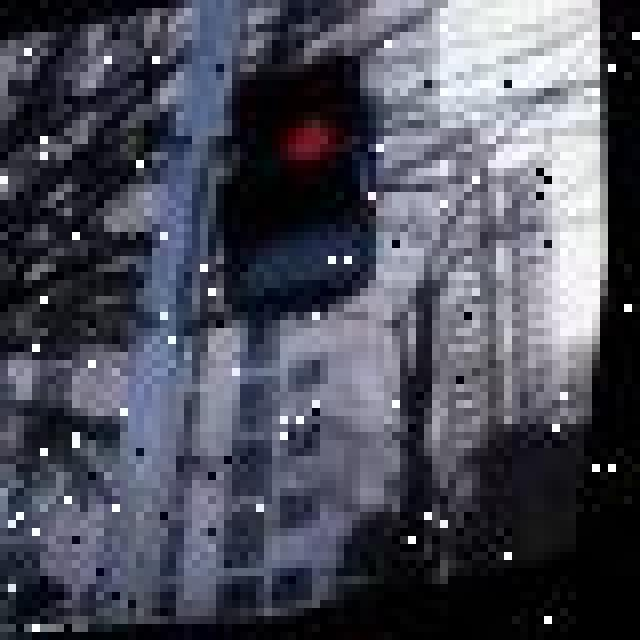redlight: (222, 72, 375, 310)
